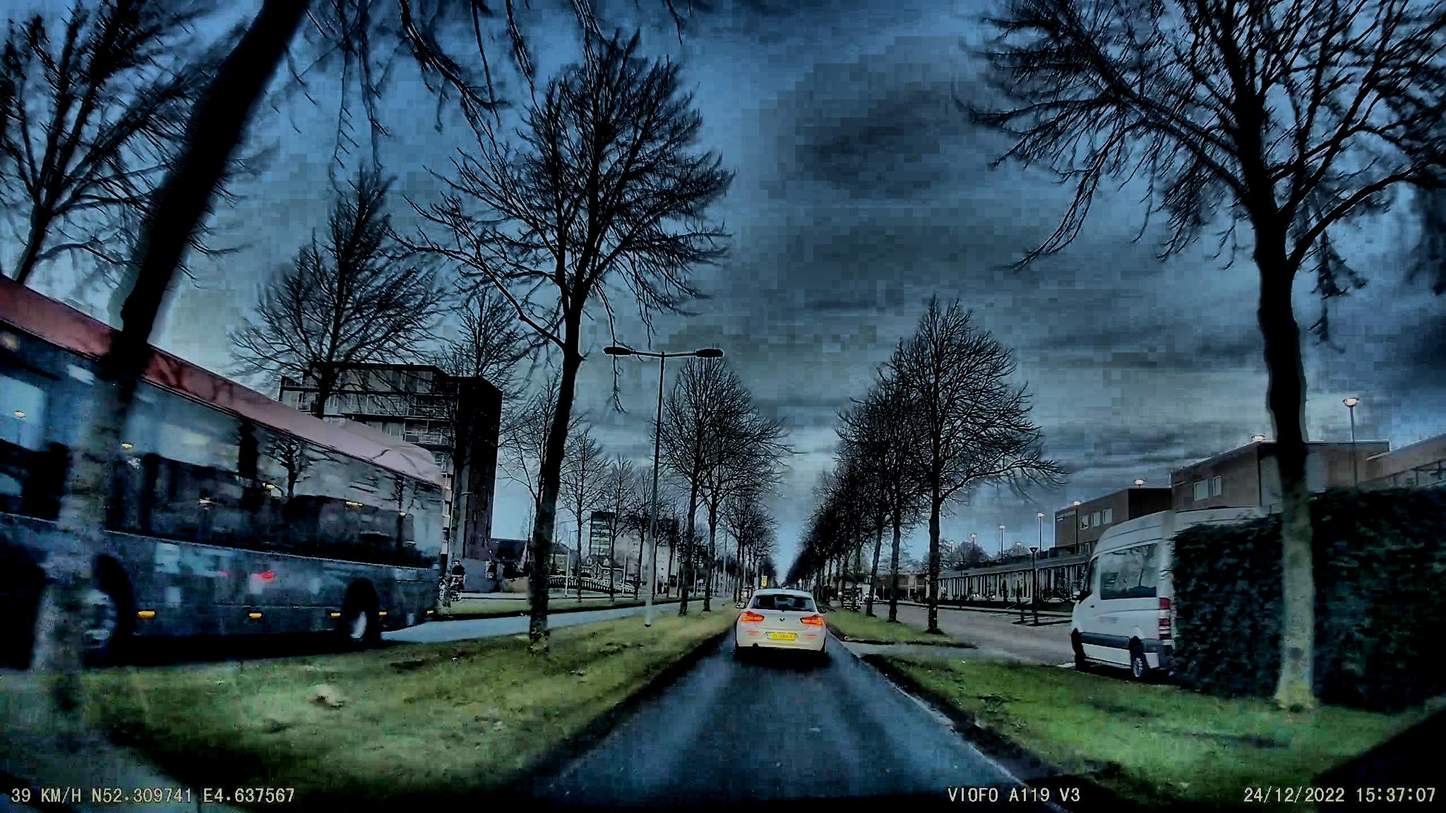Roads: (471, 644, 1073, 813)
